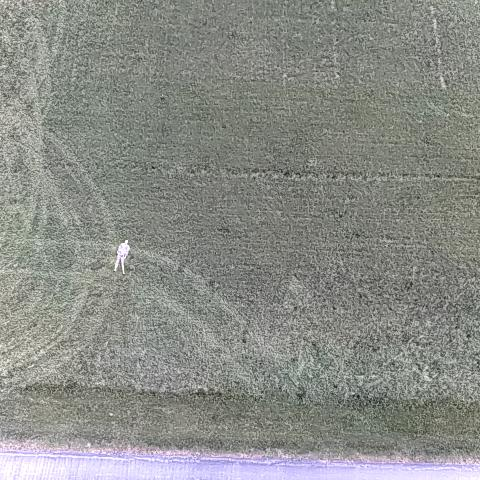person: (112, 238, 131, 276)
